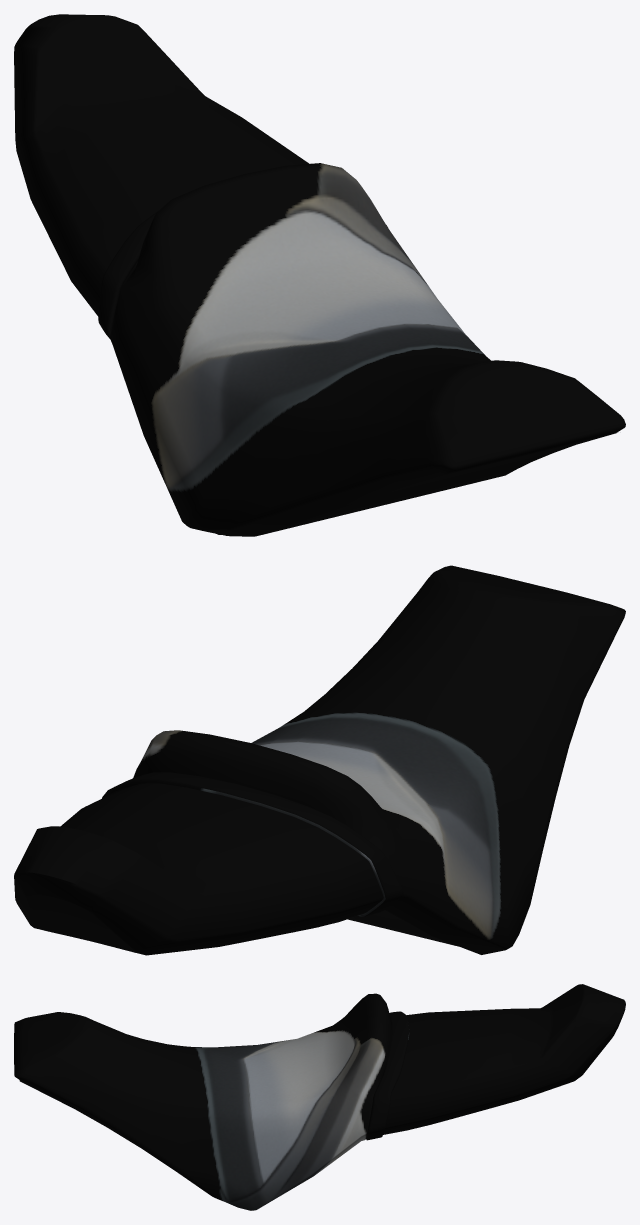
3 renders of one model, top to bottom at view 1: azimuth 30°, elevation 25°; view 2: azimuth 150°, elevation 25°; view 3: azimuth 270°, elevation 25°, orthographic. The views are drawn at different scales.
Visible parts, largest first — view 1: _15_saddle_2; view 2: _15_saddle_2; view 3: _15_saddle_2.
Boxes of the visible parts, x1,y1,x2,y2 form: _15_saddle_2: (14,14,625,536); _15_saddle_2: (14,565,625,955); _15_saddle_2: (14,984,625,1210).
Size of the model in its own units: 0.1506 by 0.3914 by 0.1258.
